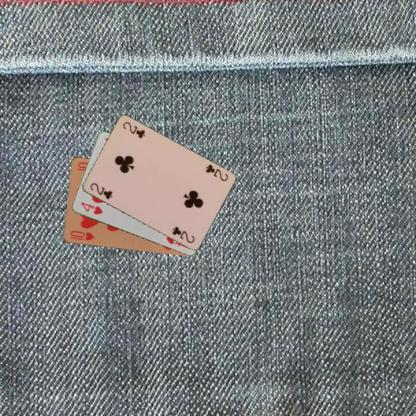10h: (66, 228, 96, 242)
2c: (203, 161, 229, 182), (87, 180, 113, 200)
4h: (78, 199, 104, 216)
